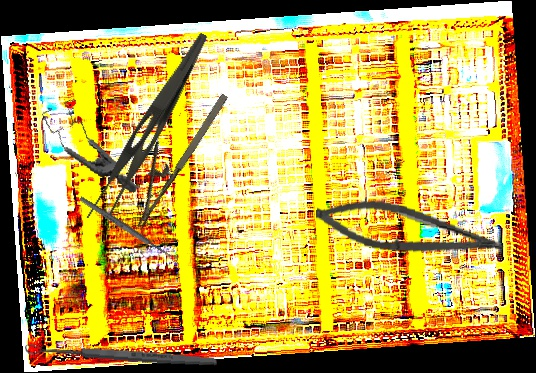Dressing Forceps: (82, 21, 210, 232)
Micro Scissor: (312, 192, 508, 265)
Needle Holder: (109, 78, 233, 231)
Speculum: (28, 92, 155, 194)
Surgical Spoon: (78, 195, 179, 264), (24, 342, 218, 368)
